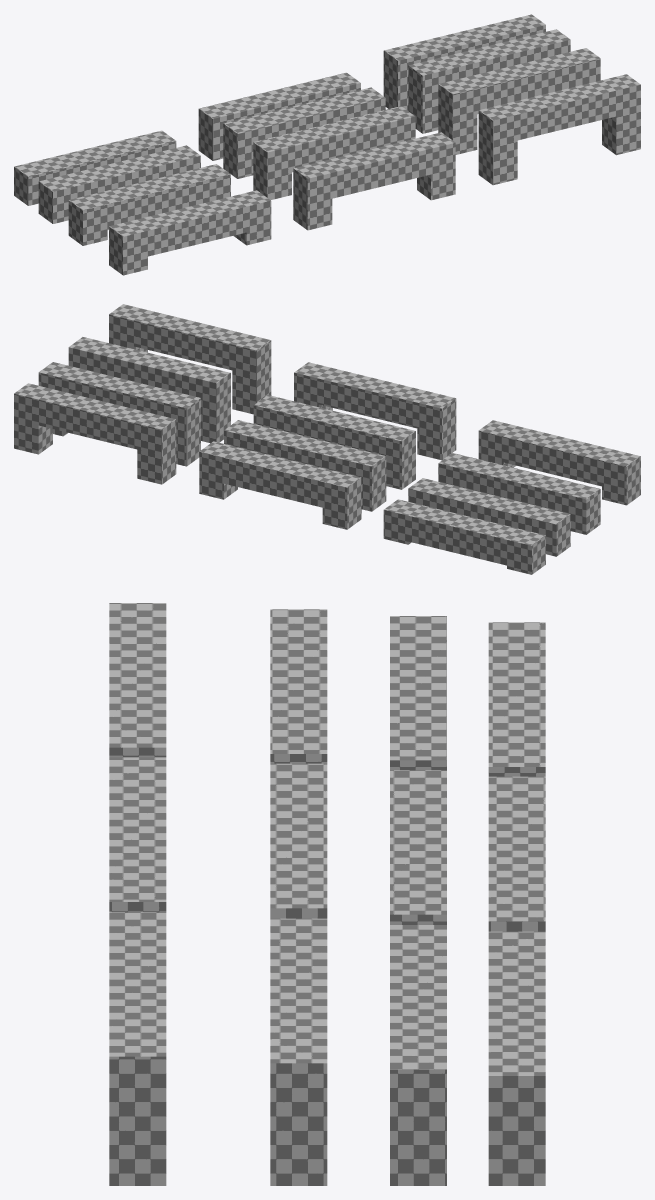
Rendered from Agachaderas.obj.
3 views of the same model, one above another, from view 1: azimuth 30°, elevation 25°; view 2: azimuth 150°, elevation 25°; view 3: azimuth 270°, elevation 25° (orthographic). The views are drawn at different scales.
Parts seen in each view (by area): view 1: Cube; view 2: Cube; view 3: Cube.
Boxes of the visible parts, x1,y1,x2,y2 form: Cube: (14, 14, 640, 275); Cube: (14, 304, 640, 574); Cube: (109, 603, 545, 1185).
Size of the model in its own units: 41.93 by 5 by 15.31.
